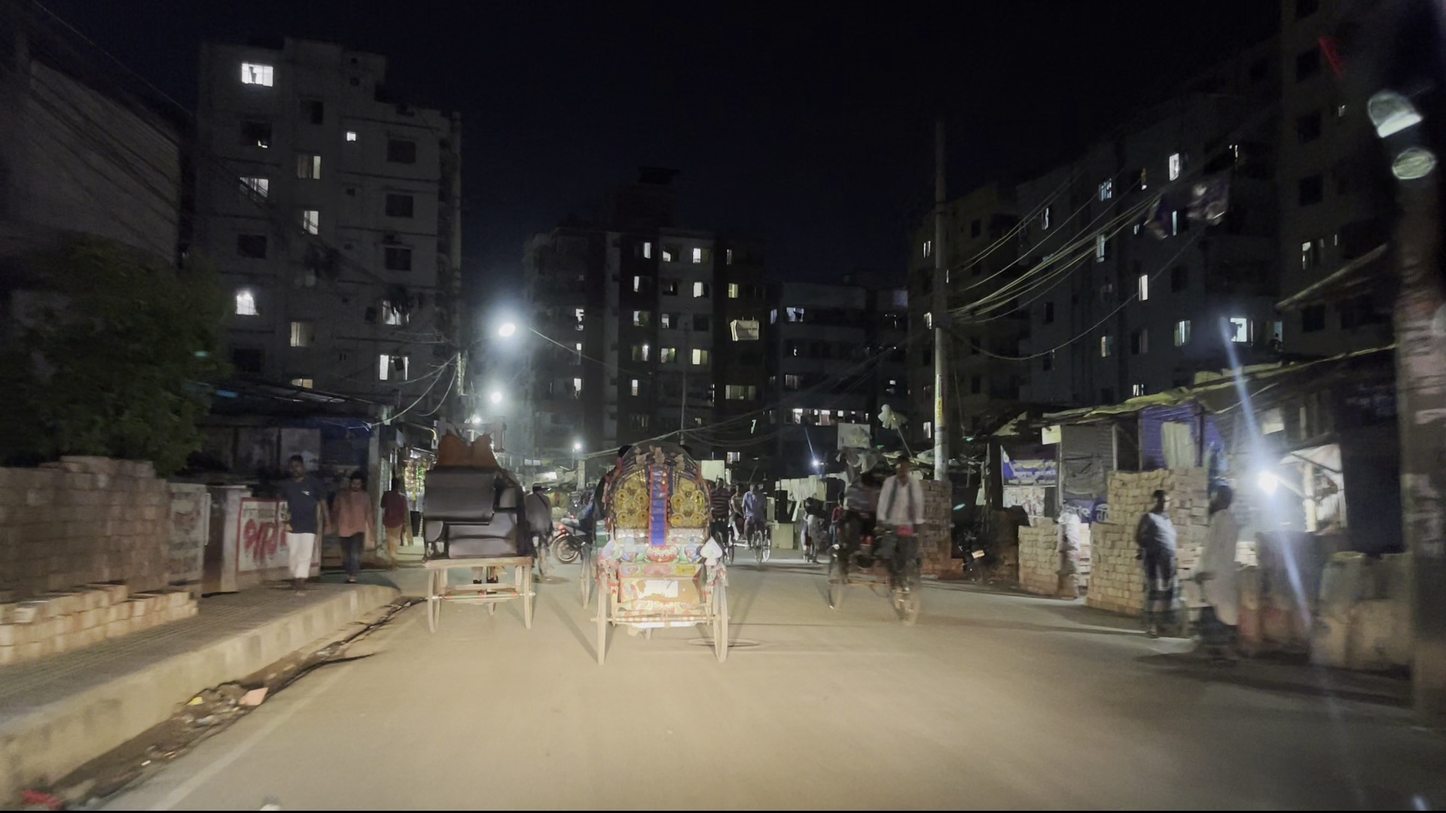bicycle: (706, 473, 740, 578), (741, 481, 778, 572)
person: (1130, 413, 1232, 646), (1198, 418, 1287, 654), (1098, 427, 1173, 616), (267, 441, 331, 619), (877, 455, 924, 586), (329, 461, 383, 571), (374, 476, 418, 572)
